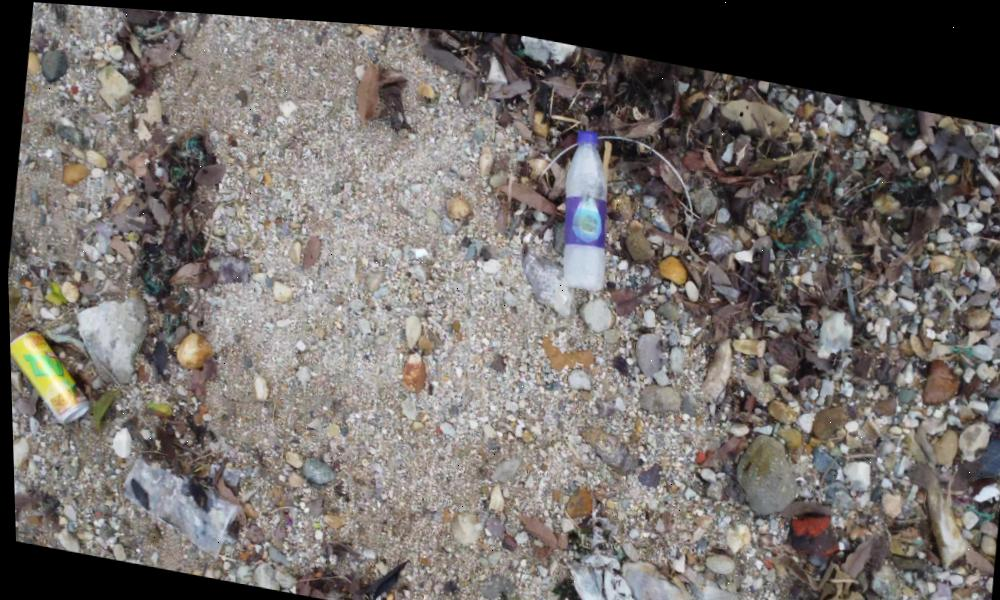can: (8, 326, 98, 424), (11, 321, 25, 329)
plastic bag: (107, 446, 259, 563)
plastic bottle: (553, 118, 620, 286)
